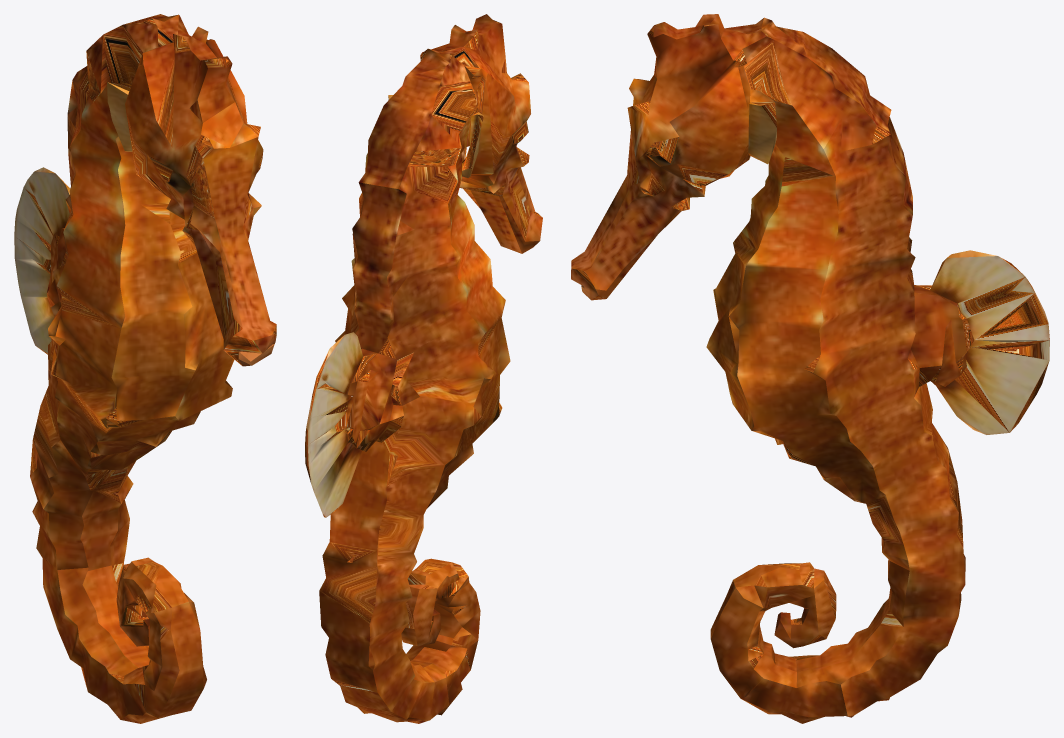
File: 20_seahorse.glb
The picture shows the model from 3 angles, left to right: view 1: azimuth 30°, elevation 25°; view 2: azimuth 150°, elevation 25°; view 3: azimuth 270°, elevation 25°; orthographic projection. The views are drawn at different scales.
Visible parts, largest first — view 1: geometry_0; view 2: geometry_0; view 3: geometry_0.
Boxes of the visible parts, x1,y1,x2,y2 form: geometry_0: (14, 14, 276, 723); geometry_0: (305, 14, 542, 723); geometry_0: (571, 14, 1049, 723).
Bounding box in the file's own units: 0.2507 × 0.9999 × 0.6244.
1 material, 1 textured.
